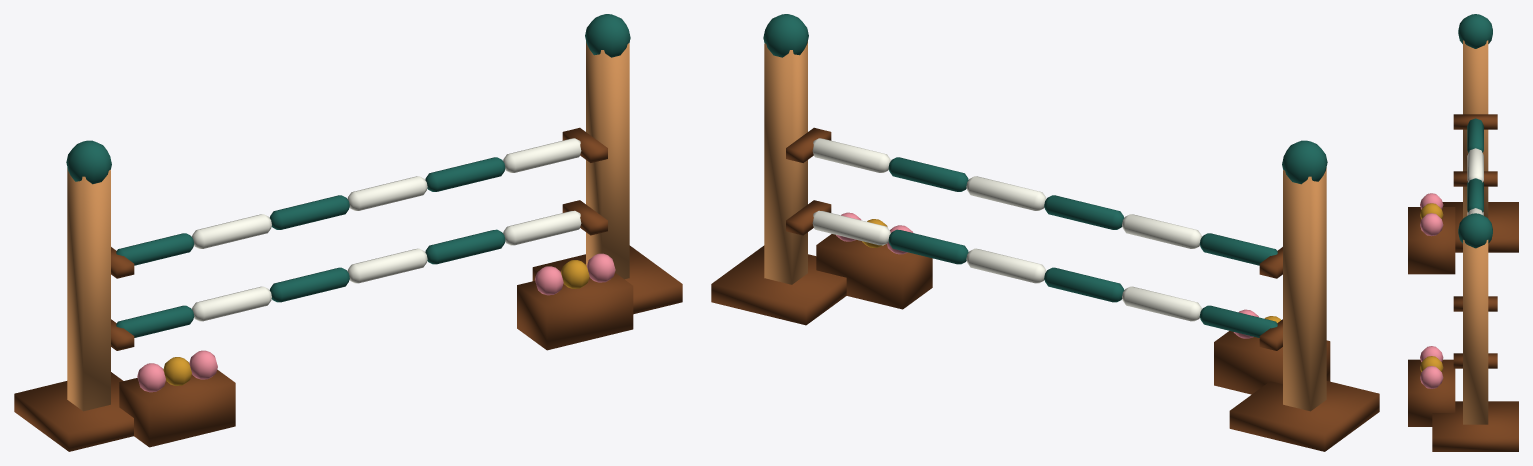
Rendered from hindernis_b.glb.
3 renders of one model, left to right at view 1: azimuth 30°, elevation 25°; view 2: azimuth 150°, elevation 25°; view 3: azimuth 270°, elevation 25°, orthographic. The views are drawn at different scales.
Parts seen in each view (by area): view 1: RanchHindernisB; view 2: RanchHindernisB; view 3: RanchHindernisB.
Part boxes in pixels (x1,y1,x2,y2): RanchHindernisB: [14, 14, 682, 451]; RanchHindernisB: [711, 14, 1379, 451]; RanchHindernisB: [1408, 14, 1518, 451].
Size of the model in its own units: 3.55 by 1.53 by 0.705.
1 material, 1 textured.
